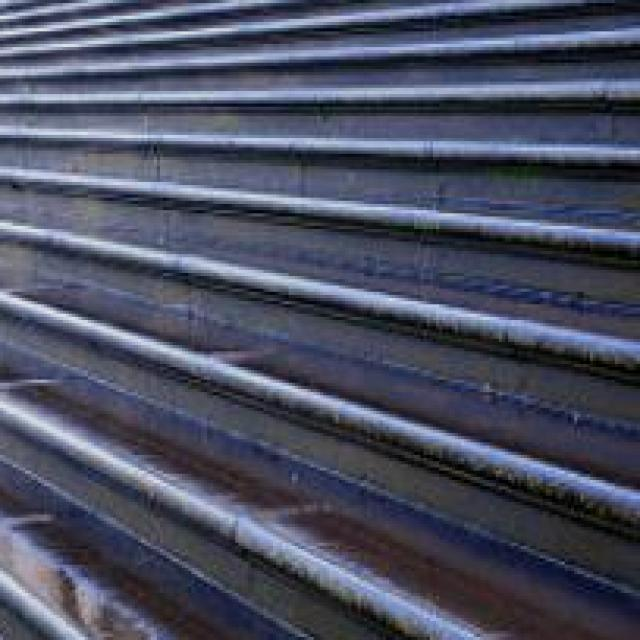upstair: (1, 1, 562, 534)
